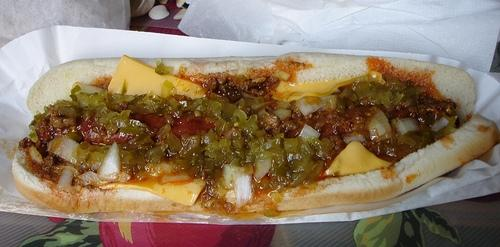onion: (96, 142, 122, 182), (46, 136, 79, 164), (223, 162, 254, 190), (368, 112, 393, 142), (232, 175, 252, 208), (295, 96, 325, 116), (77, 170, 108, 186), (252, 158, 272, 182), (394, 117, 420, 135), (298, 123, 320, 139), (341, 131, 366, 144), (29, 146, 45, 165), (431, 116, 450, 132), (57, 170, 73, 188), (321, 94, 338, 110), (78, 84, 104, 94), (455, 103, 466, 125), (160, 175, 190, 183), (152, 164, 172, 175), (273, 107, 291, 119), (273, 70, 290, 82), (225, 190, 236, 204), (275, 100, 290, 108)
